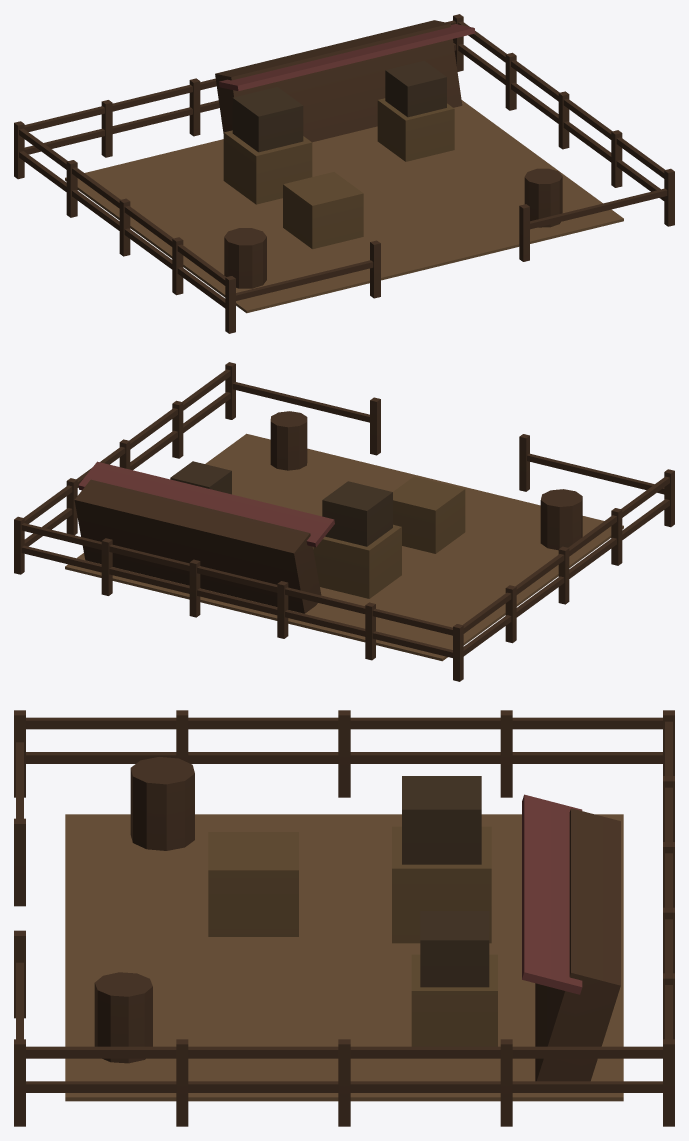
The model's file is yard_store.glb.
3 views of the same model, one above another, from view 1: azimuth 30°, elevation 25°; view 2: azimuth 150°, elevation 25°; view 3: azimuth 270°, elevation 25° (orthographic). The views are drawn at different scales.
Visible parts, largest first — view 1: prop; view 2: prop; view 3: prop.
Part boxes in pixels (box(x1,y1,x2,y2)): prop: box(14, 14, 674, 333); prop: box(14, 362, 674, 681); prop: box(14, 710, 674, 1126).
Size of the model in its own units: 9.14 by 1.75 by 7.64.
